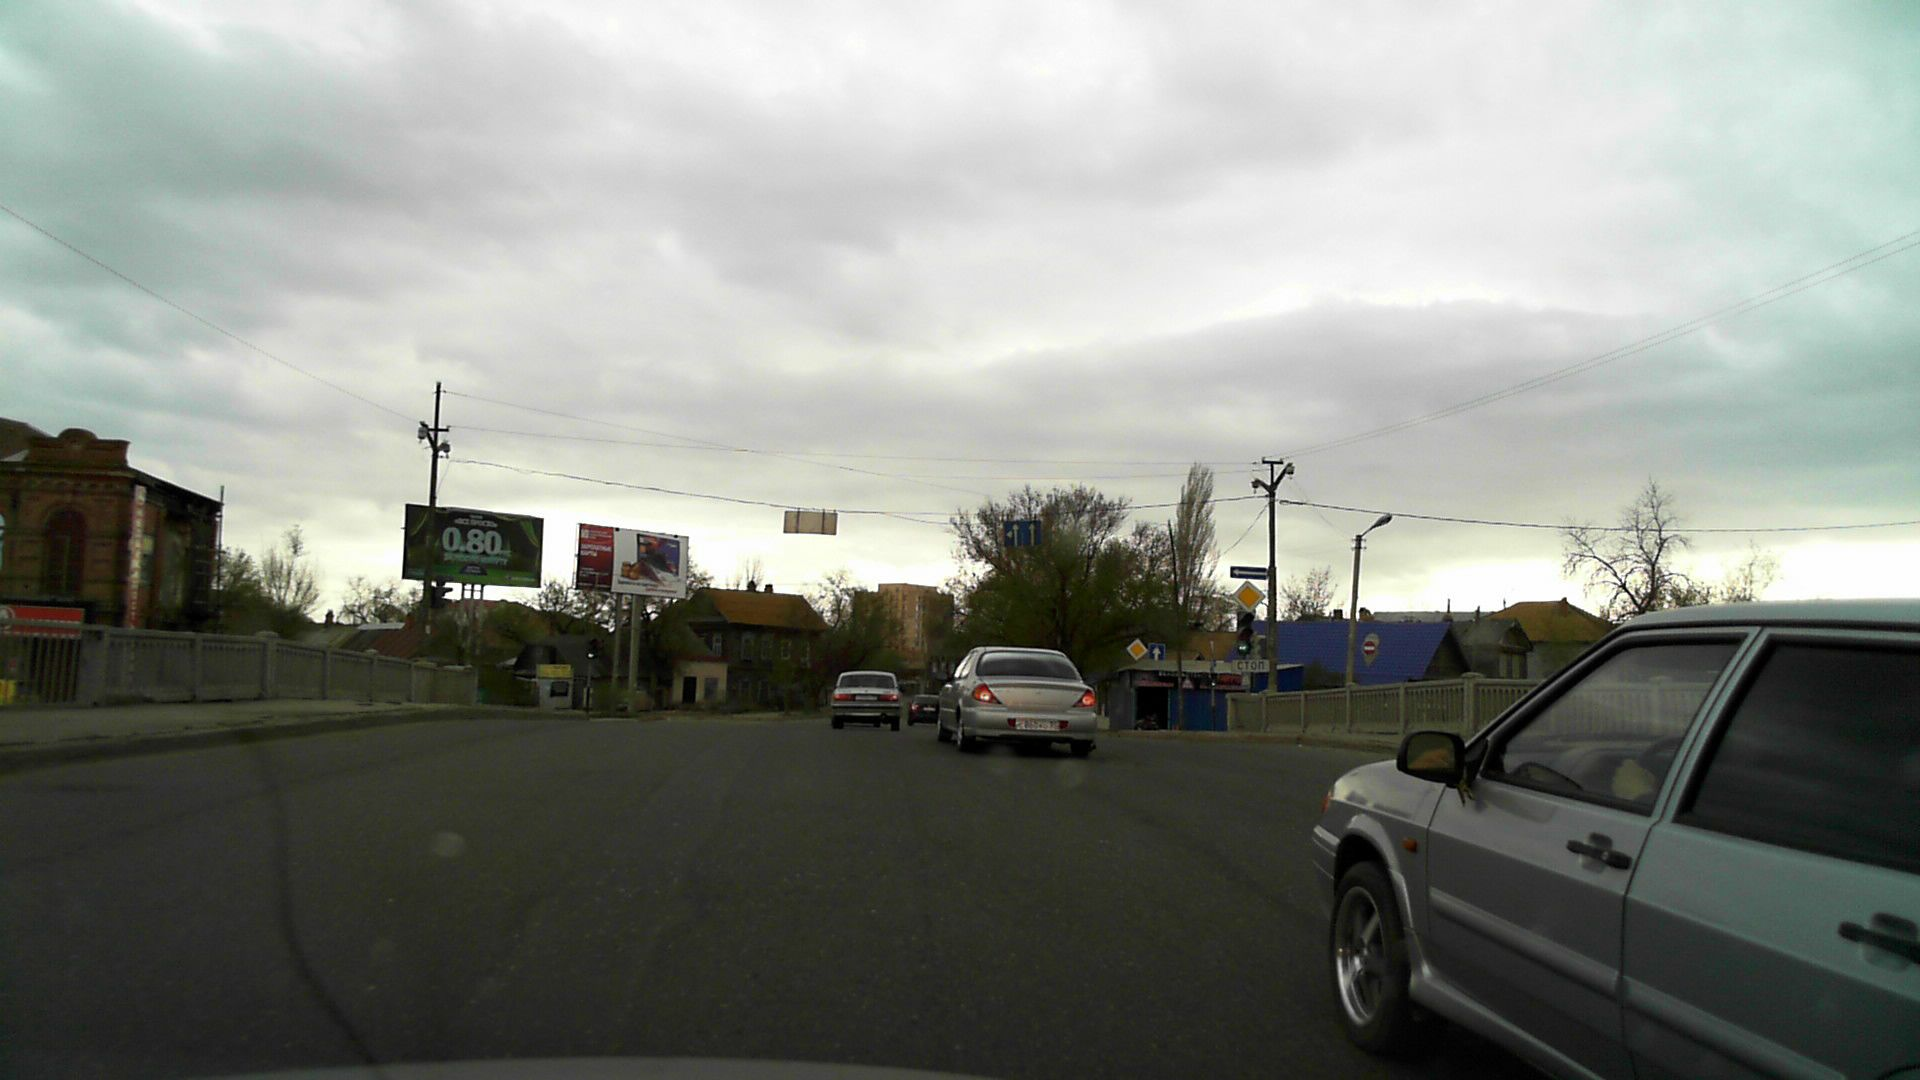One-Way Traffic: (1230, 566, 1267, 579)
